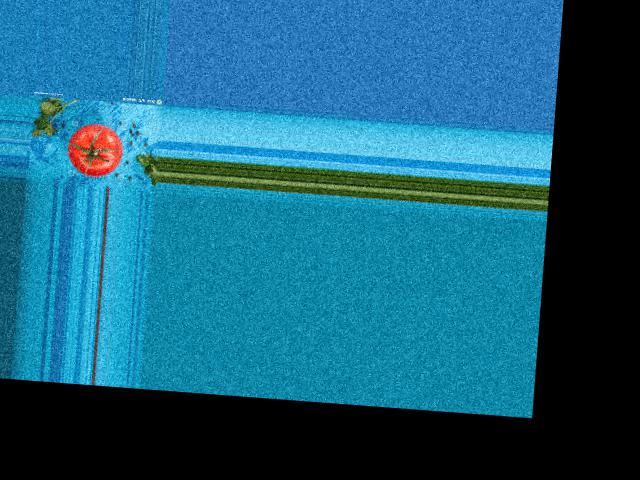tomato: (65, 121, 124, 178)
